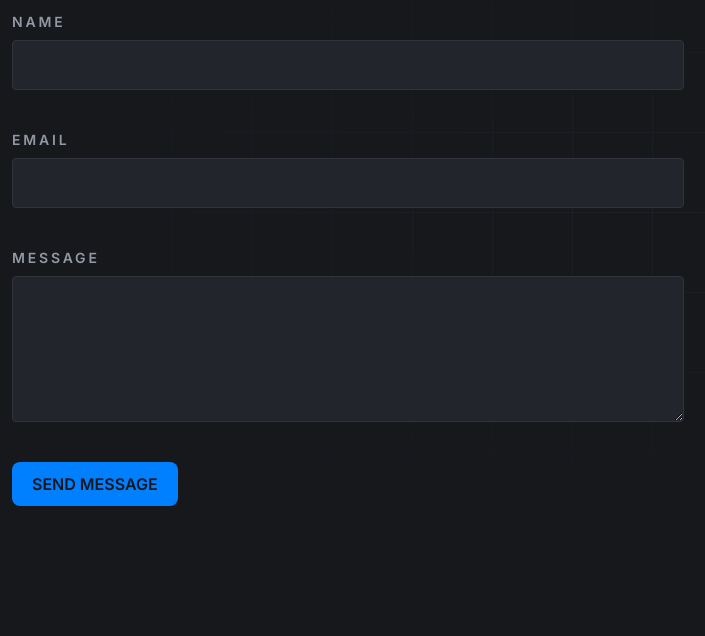
Test: ContactForm › un 200 con success:false se trata como error, no como éxito
Type "Ana" into the field labelled "Name".
click(348, 65); type("Ana")  # box 12,40 -> 684,90
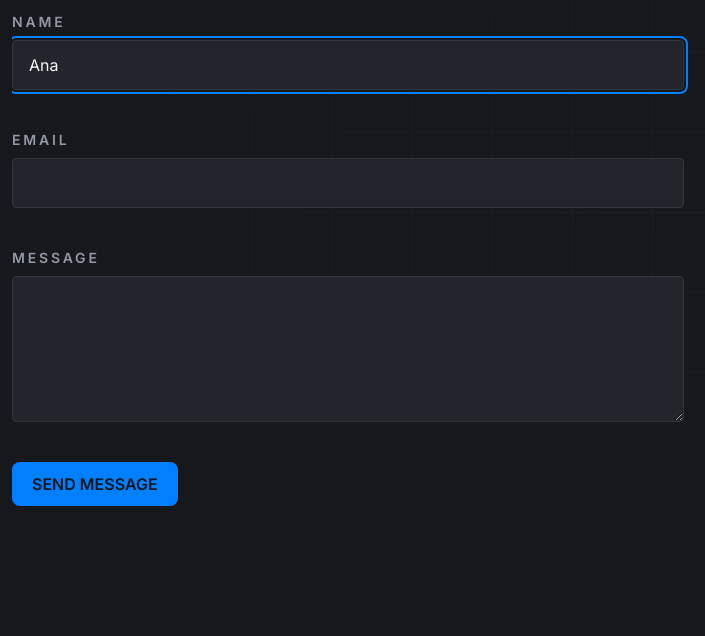
Type "ana@ejemplo.com" into the field labelled "Email".
click(348, 183); type("ana@ejemplo.com")  # box 12,158 -> 684,208
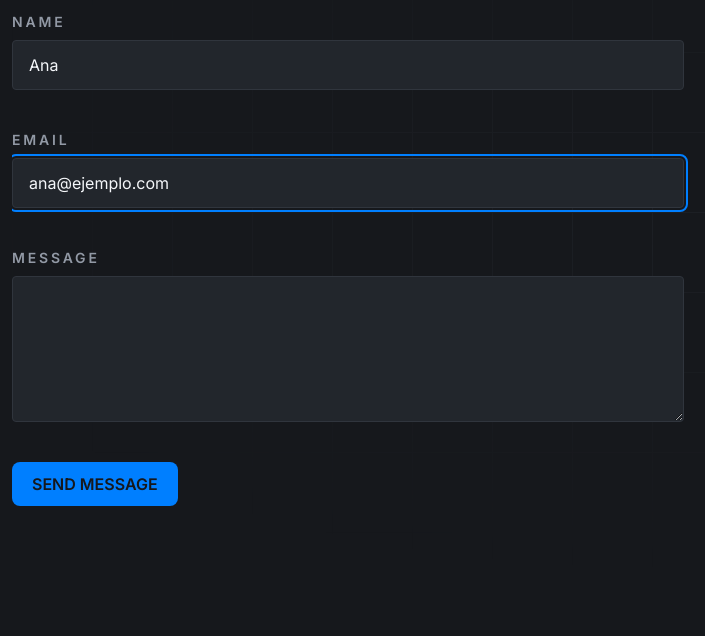
Type "Hola" into the text box labelled "Message".
click(348, 349); type("Hola")  # box 12,276 -> 684,422
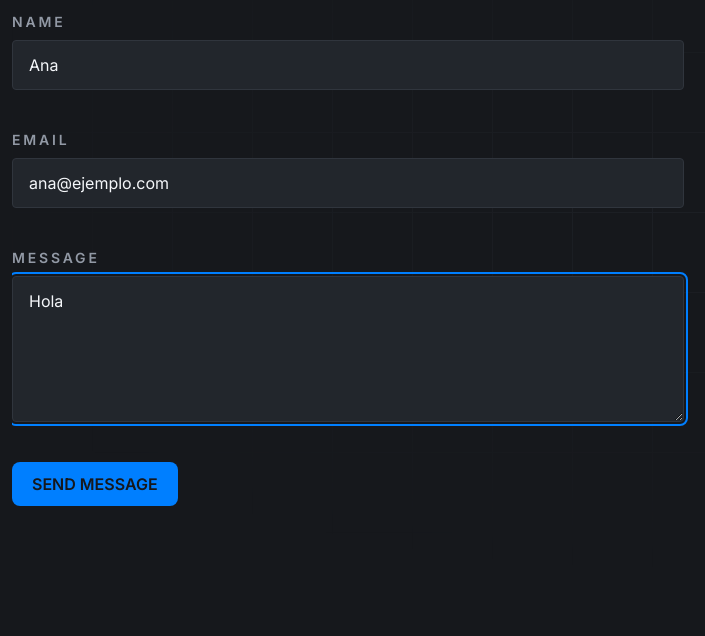
Click the button "SEND MESSAGE".
click(95, 484)  # box 12,462 -> 178,506
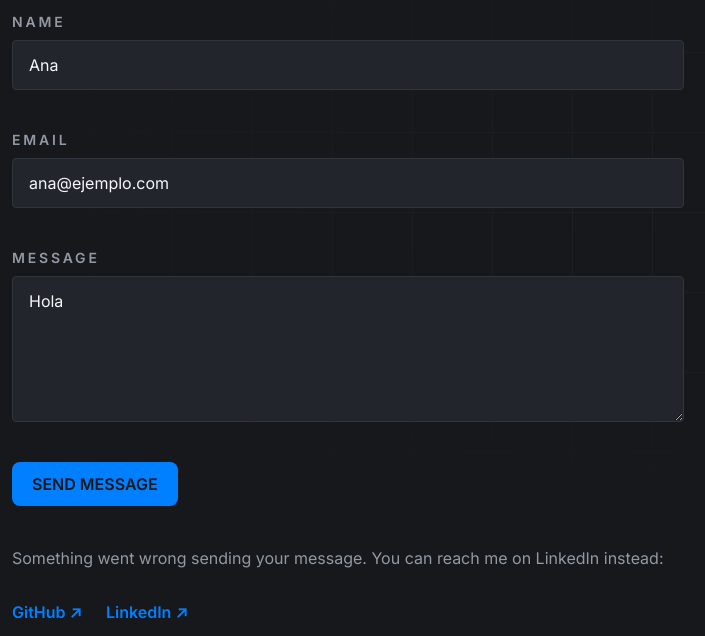
Expected: the text "Something went wrong sending your message. You can reach me on LinkedIn instead:" is shown, 12,546 -> 684,570
